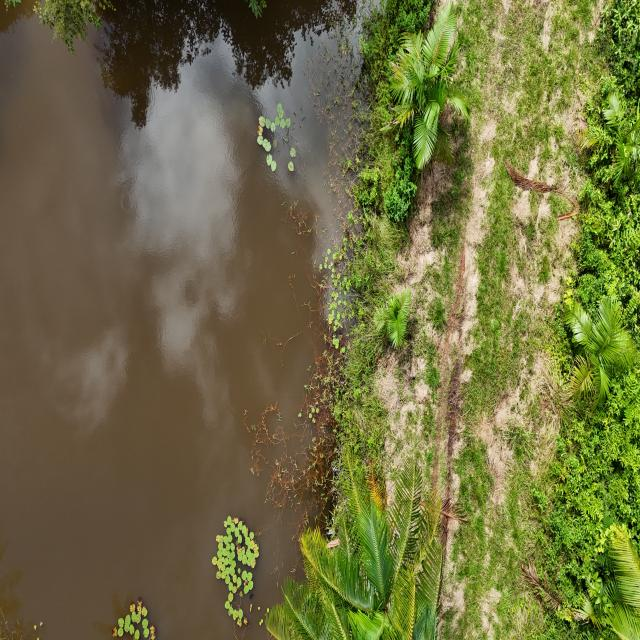vegetation: (263, 452, 448, 639), (382, 1, 470, 171), (211, 514, 259, 628)
